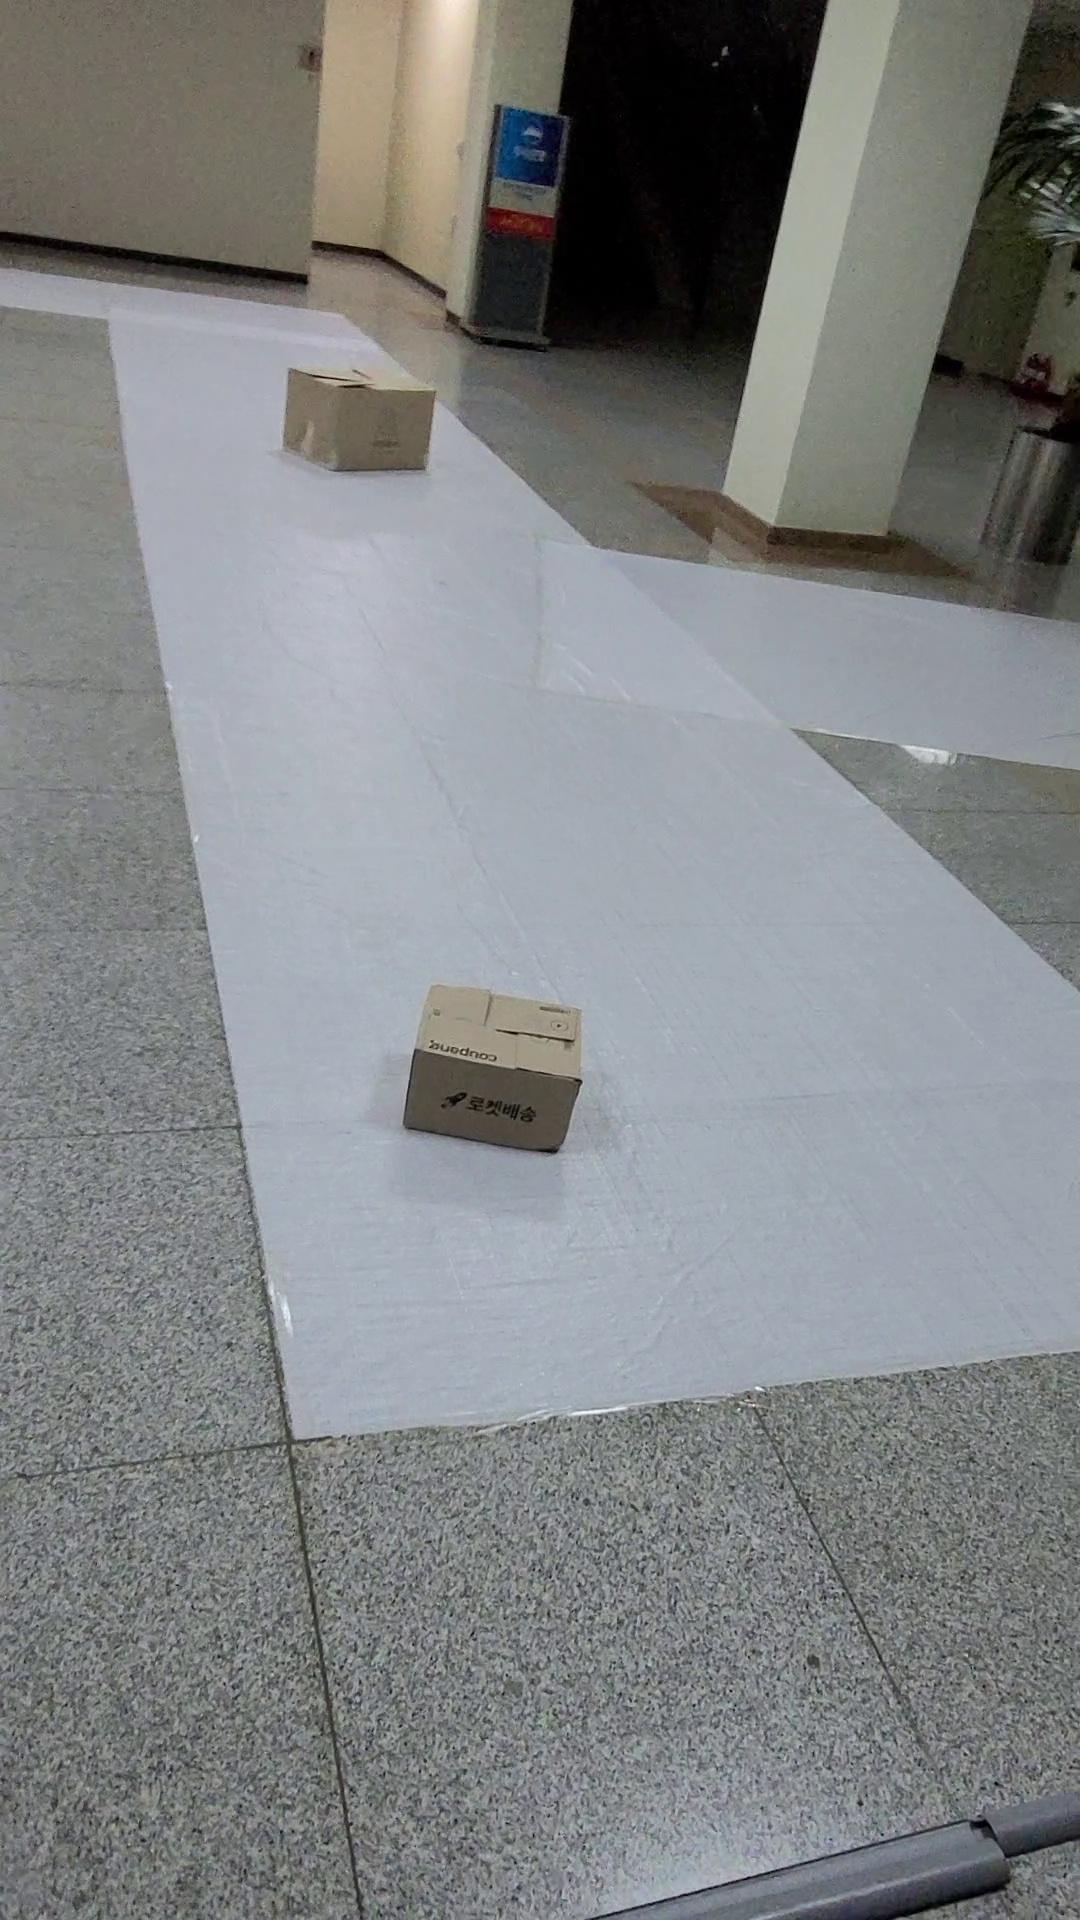Box: (382, 948, 622, 1188), (241, 330, 448, 516)
